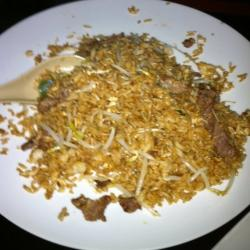rice: (52, 50, 197, 195)
